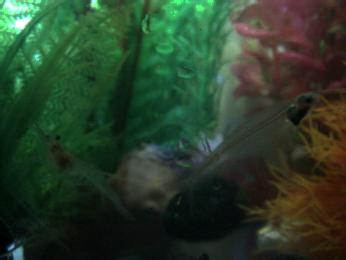glassfish: (163, 89, 322, 204)
siberian prawn: (32, 121, 135, 222)
